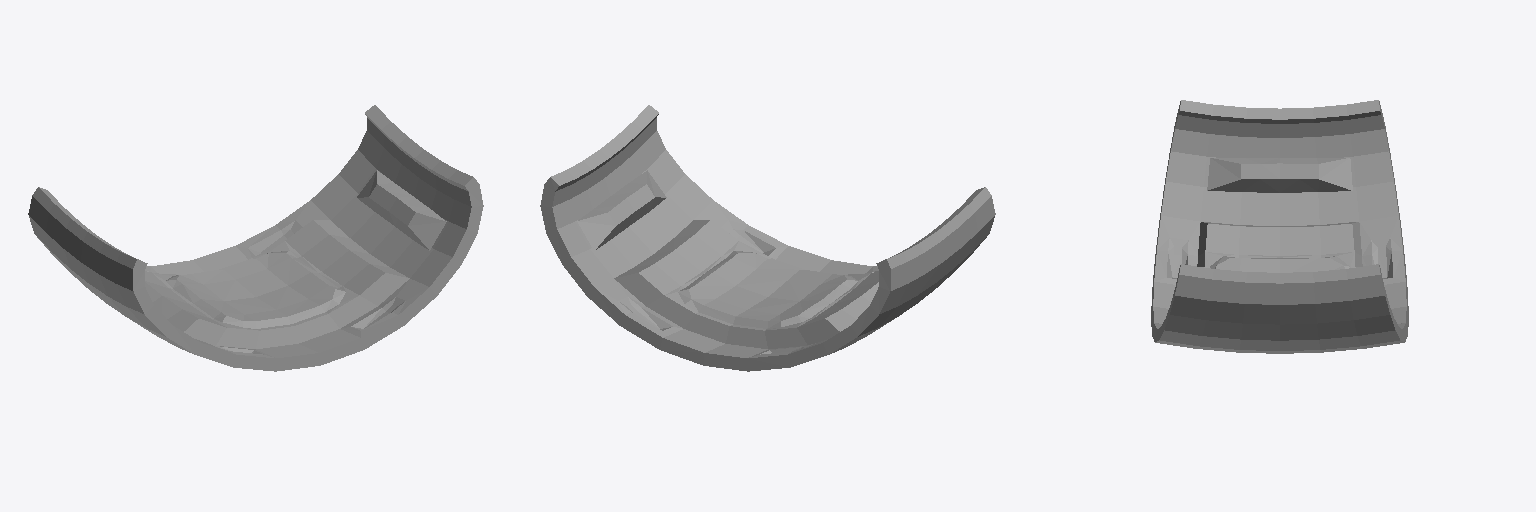
The model's file is PortalProps02.obj.
3 renders of one model, left to right at view 1: azimuth 30°, elevation 25°; view 2: azimuth 150°, elevation 25°; view 3: azimuth 270°, elevation 25°, orthographic.
Parts seen in each view (by area): view 1: PortalProps02_PortalProps02_low_Torus.011; view 2: PortalProps02_PortalProps02_low_Torus.011; view 3: PortalProps02_PortalProps02_low_Torus.011.
Boxes of the visible parts, x1=… form: PortalProps02_PortalProps02_low_Torus.011: x1=28, y1=105, x2=483, y2=371; PortalProps02_PortalProps02_low_Torus.011: x1=540, y1=105, x2=995, y2=371; PortalProps02_PortalProps02_low_Torus.011: x1=1151, y1=100, x2=1408, y2=353.
Bounding box in the file's own units: 0.9035 × 0.3655 × 0.5764.